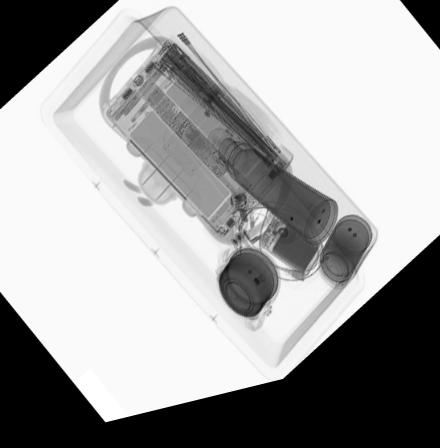Powerbank: (257, 223, 322, 290)
